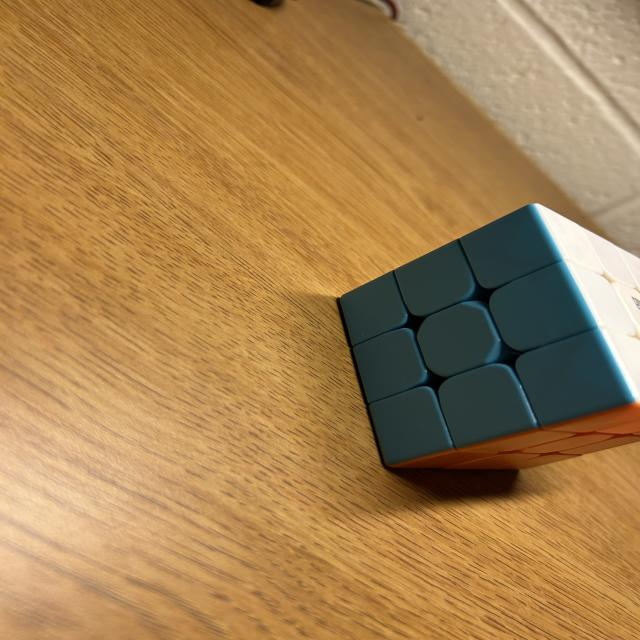Rubiks Cube: (338, 204, 640, 471)
